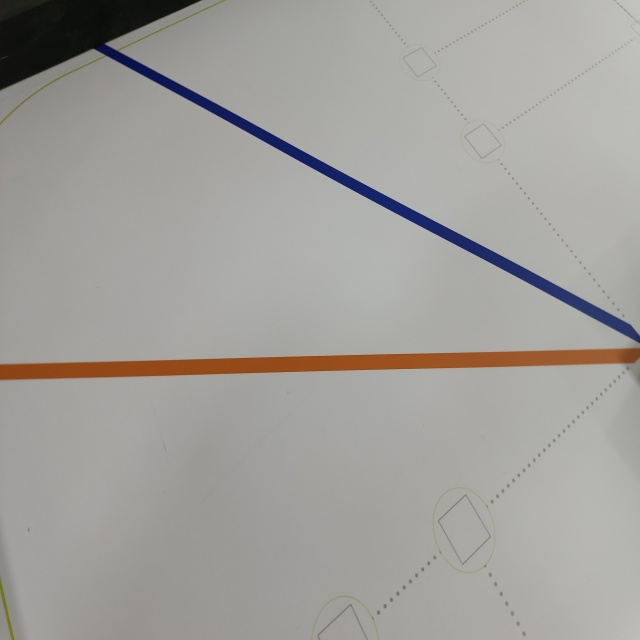blue line: (87, 34, 640, 344)
orange line: (1, 338, 640, 385)
